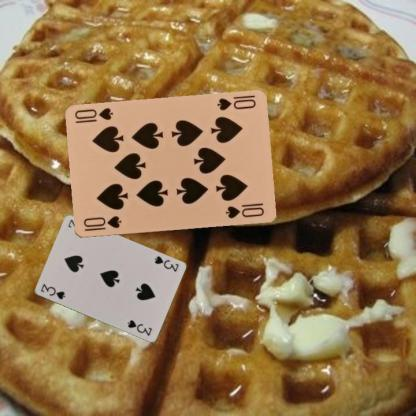10s: (80, 213, 122, 233), (214, 95, 257, 112)
3s: (151, 253, 180, 273), (38, 282, 67, 300)
